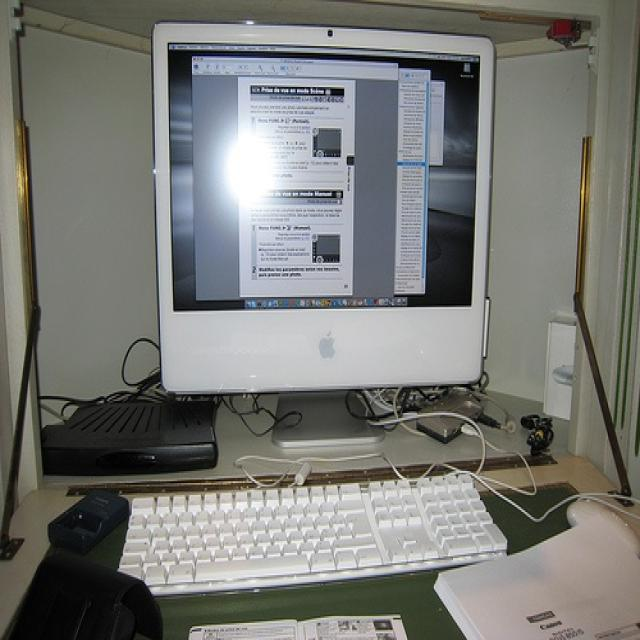tvmonitor: (147, 15, 498, 452)
